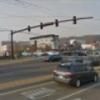cars: (51, 61, 100, 87)
